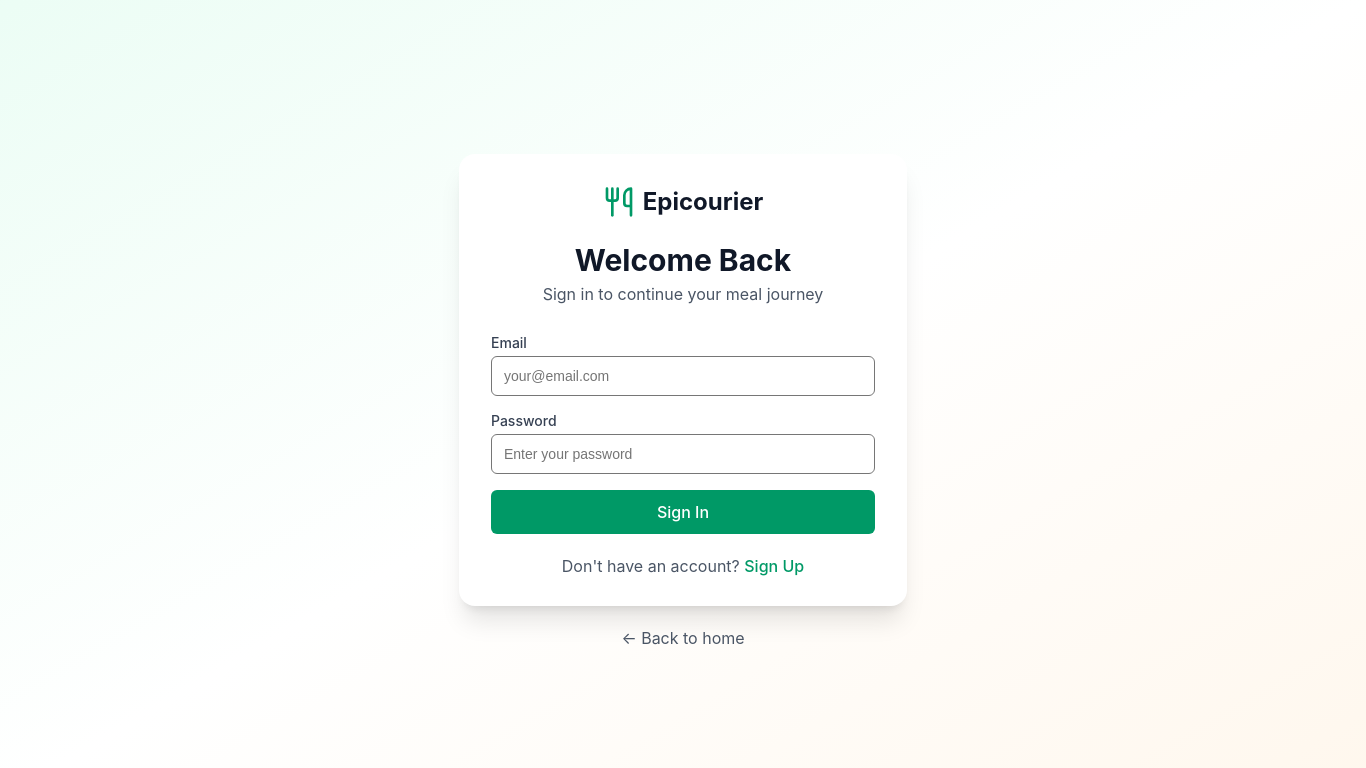
Scenario: SignIn Page › shows validation error when both fields are empty
Click the button "Sign In": click(683, 512) [491,490,875,534]
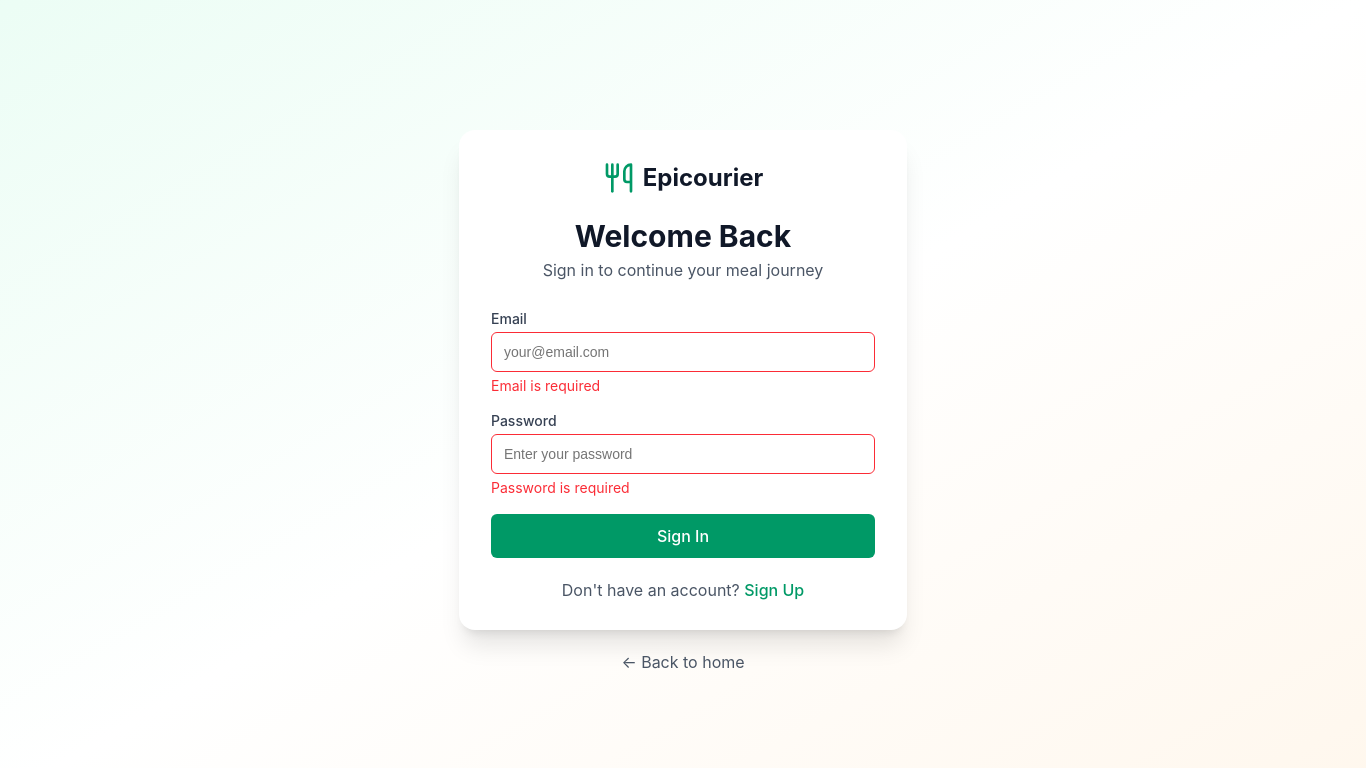
Expected: the text "Email is required" is shown, [491,377,600,394]
Expected: the text "Password is required" is shown, [491,479,630,496]
